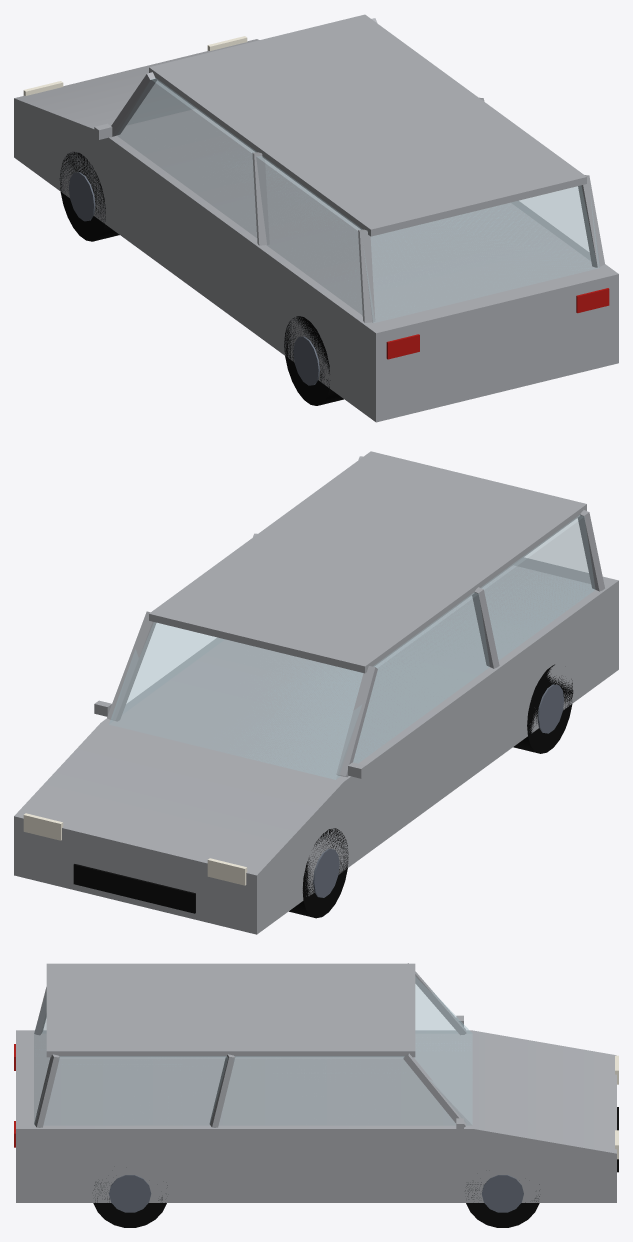
Rendered from vehicle.car.estate_silver.glb.
3 renders of one model, top to bottom at view 1: azimuth 30°, elevation 25°; view 2: azimuth 150°, elevation 25°; view 3: azimuth 270°, elevation 25°, orthographic. The views are drawn at different scales.
Parts seen in each view (by area): view 1: main__car_silver, main__glass, main__rubber, main__steel_painted, main__hazard_red, main__light_emitter; view 2: main__car_silver, main__glass, main__rubber, main__plastic_black, main__steel_painted, main__light_emitter; view 3: main__car_silver, main__glass, main__steel_painted, main__rubber.
Part boxes in pixels (left/top/right/bottom): main__car_silver: left=14, top=14, right=618, bottom=422; main__glass: left=117, top=78, right=599, bottom=322; main__rubber: left=59, top=152, right=343, bottom=405; main__steel_painted: left=68, top=172, right=319, bottom=385; main__hazard_red: left=386, top=288, right=609, bottom=359; main__light_emitter: left=23, top=36, right=247, bottom=95; main__car_silver: left=14, top=451, right=618, bottom=934; main__glass: left=109, top=515, right=595, bottom=779; main__rubber: left=289, top=664, right=573, bottom=918; main__plastic_black: left=73, top=864, right=195, bottom=913; main__steel_painted: left=313, top=684, right=564, bottom=897; main__light_emitter: left=23, top=813, right=247, bottom=885; main__car_silver: left=16, top=963, right=616, bottom=1202; main__glass: left=34, top=977, right=472, bottom=1125; main__steel_painted: left=109, top=1175, right=523, bottom=1212; main__rubber: left=93, top=1182, right=539, bottom=1227.
Bounding box in the file's own units: 2 × 1.48 × 4.73.
